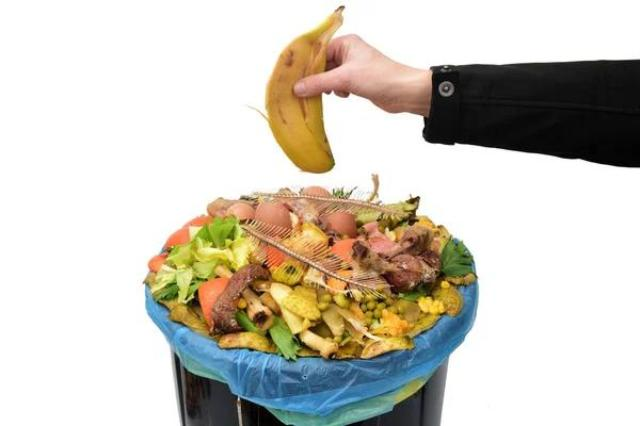Garbage: (144, 184, 478, 359)
